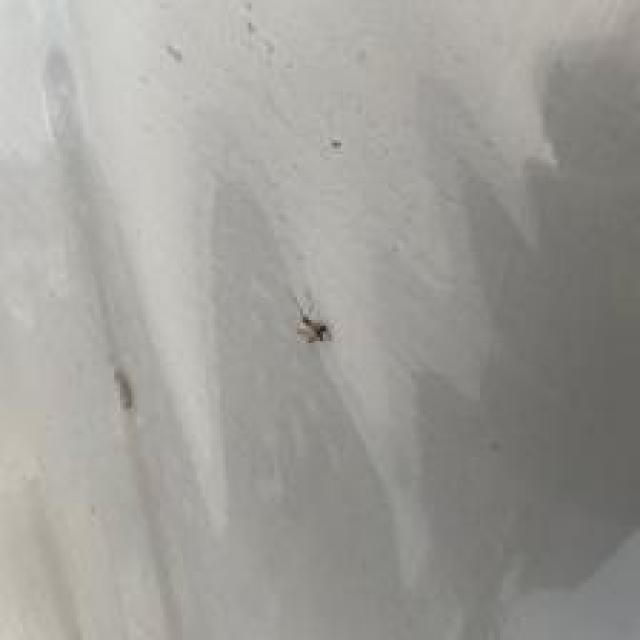Culex: (292, 293, 332, 344)
